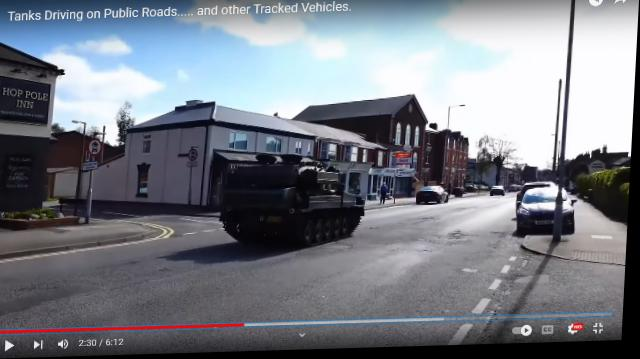other: (381, 183, 390, 207)
tank: (226, 161, 365, 249)
